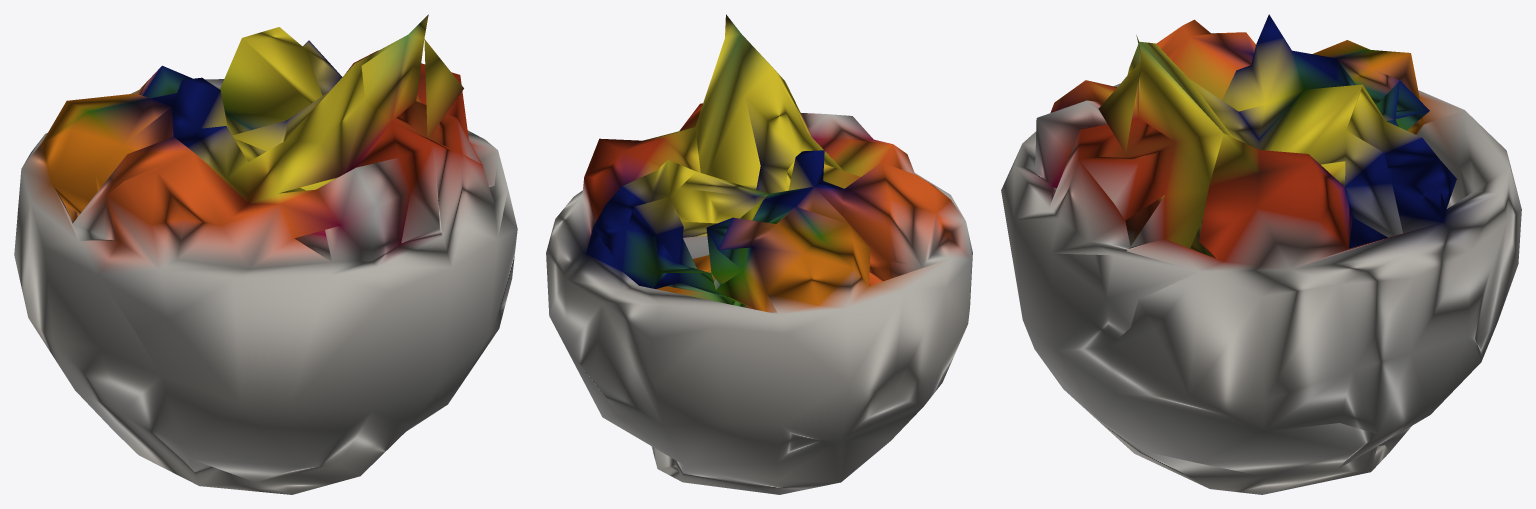
The model's file is gen3d-fruit-bowl-lod1.glb.
3 renders of one model, left to right at view 1: azimuth 30°, elevation 25°; view 2: azimuth 150°, elevation 25°; view 3: azimuth 270°, elevation 25°, orthographic. The views are drawn at different scales.
Parts seen in each view (by area): view 1: part_0; view 2: part_0; view 3: part_0.
Part boxes in pixels (x1,y1,x2,y2): part_0: (14,14,517,494); part_0: (546,14,972,494); part_0: (1001,14,1521,494).
Size of the model in its own units: 1 by 0.9688 by 1.
